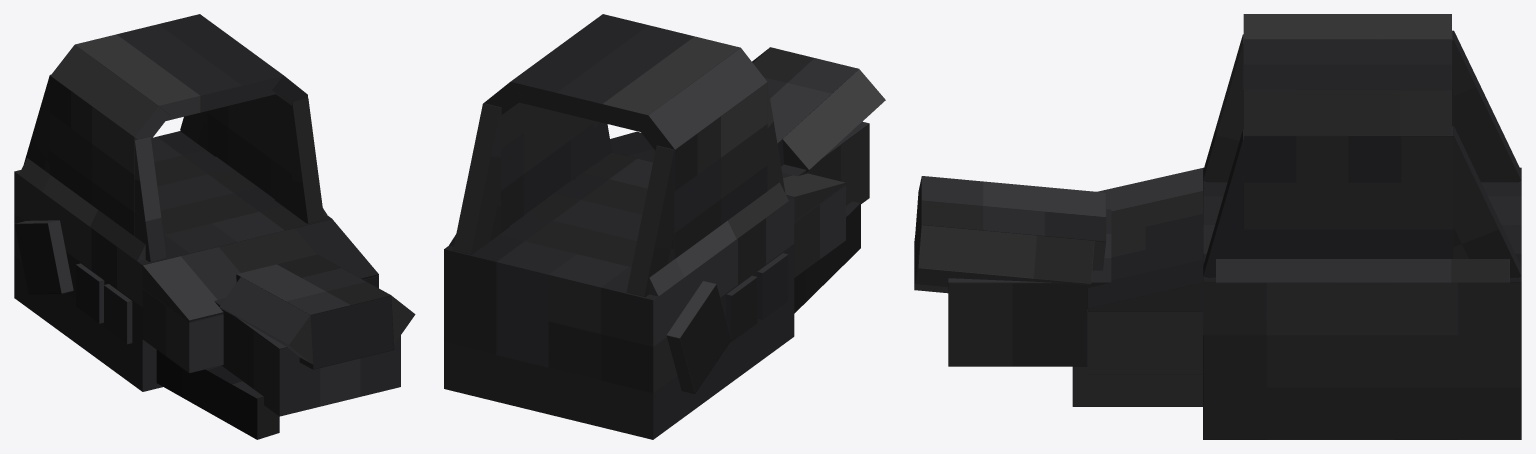
File: rspec.obj
The picture shows the model from 3 angles, left to right: view 1: azimuth 30°, elevation 25°; view 2: azimuth 150°, elevation 25°; view 3: azimuth 270°, elevation 25°; orthographic projection. The views are drawn at different scales.
Parts seen in each view (by area): view 1: gun_23; view 2: gun_23; view 3: gun_23.
Boxes of the visible parts, bbox=[...] form: gun_23: bbox=[14, 14, 415, 439]; gun_23: bbox=[444, 14, 885, 439]; gun_23: bbox=[914, 14, 1521, 439].
Bounding box in the file's own units: 0.3129 × 0.3937 × 0.6553.
